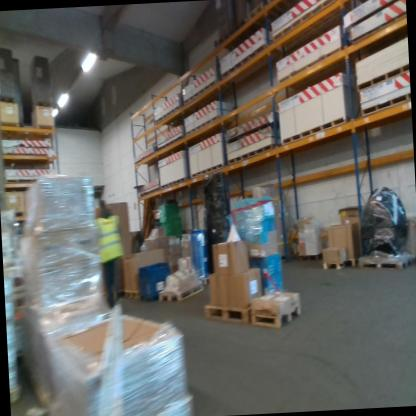pallet: (271, 0, 353, 55), (275, 113, 364, 156), (217, 41, 283, 95), (354, 59, 408, 99), (251, 296, 303, 334), (179, 77, 229, 114), (355, 92, 410, 124), (181, 109, 238, 139), (198, 295, 258, 323), (357, 248, 413, 277), (225, 140, 283, 168), (160, 279, 203, 308), (318, 248, 360, 277), (184, 162, 231, 179), (151, 101, 184, 125), (156, 129, 187, 154), (155, 177, 195, 194), (245, 3, 268, 32), (136, 185, 163, 207), (1, 117, 25, 136), (125, 286, 147, 305), (30, 99, 54, 114), (31, 121, 54, 135), (197, 282, 214, 299), (0, 95, 18, 105)
